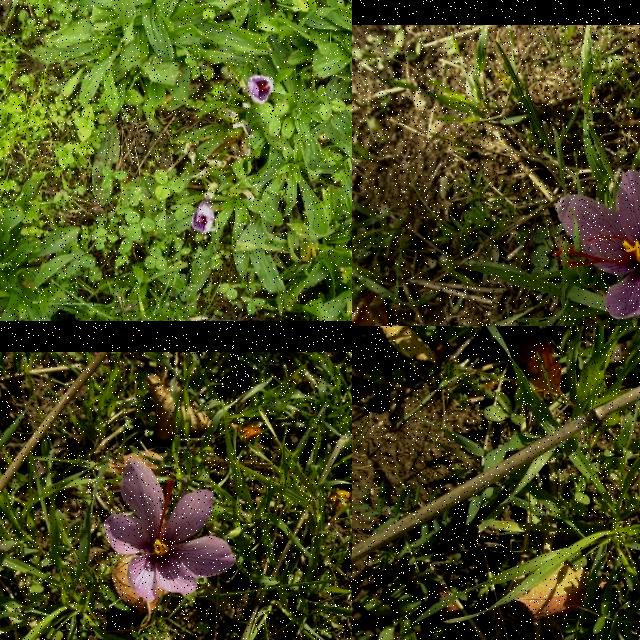flower: (104, 462, 236, 604), (552, 169, 640, 320), (247, 74, 276, 106), (192, 200, 218, 234)
